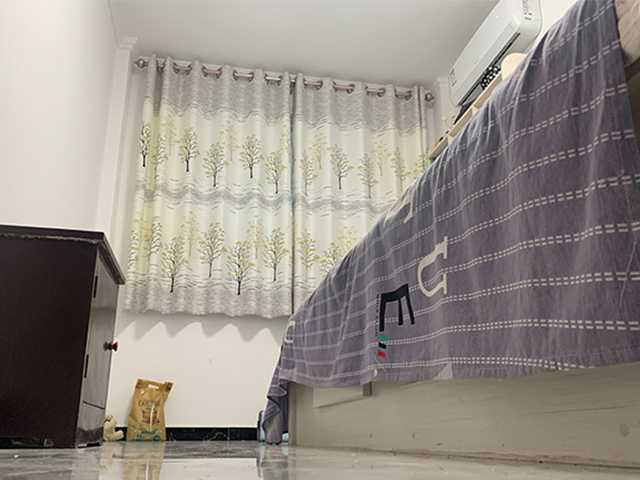bed: (255, 1, 640, 467)
cabinet: (1, 223, 127, 451)
